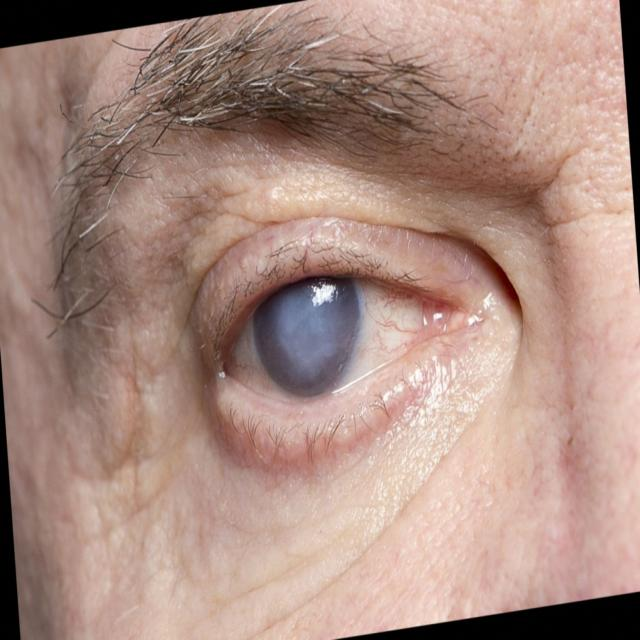Cataract: (167, 176, 503, 470)
